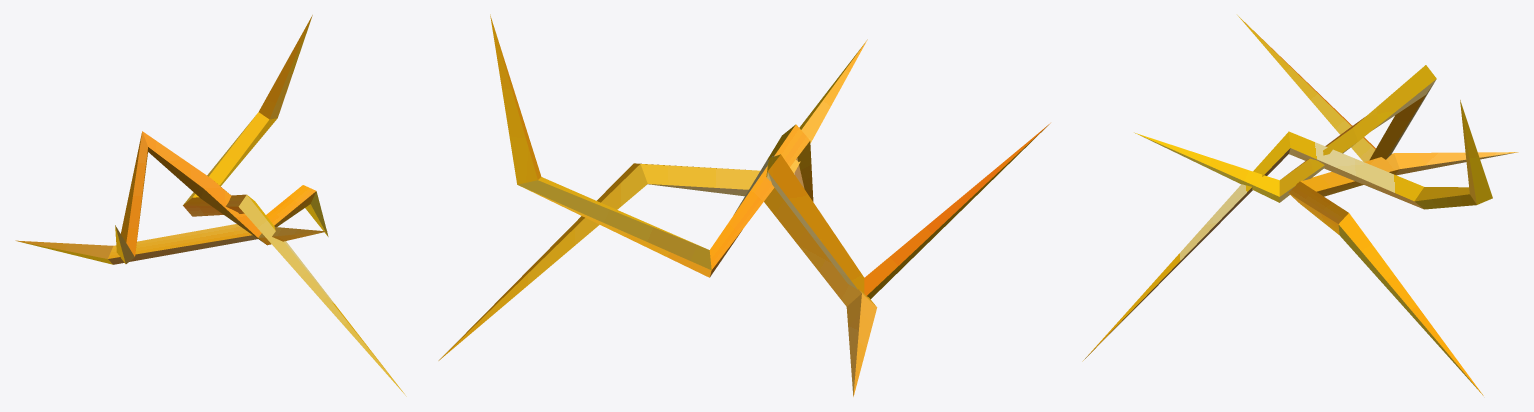
Rendered from sparklie.gltf.
3 renders of one model, left to right at view 1: azimuth 30°, elevation 25°; view 2: azimuth 150°, elevation 25°; view 3: azimuth 270°, elevation 25°, orthographic. The views are drawn at different scales.
Parts seen in each view (by area): view 1: sparklie; view 2: sparklie; view 3: sparklie.
Part boxes in pixels (x1,y1,x2,y2): sparklie: [15, 15, 406, 396]; sparklie: [438, 14, 1050, 396]; sparklie: [1082, 15, 1518, 395].
Size of the model in its own units: 0.1767 by 0.1339 by 0.1768.
Materials: 1 (1 with a texture image).
